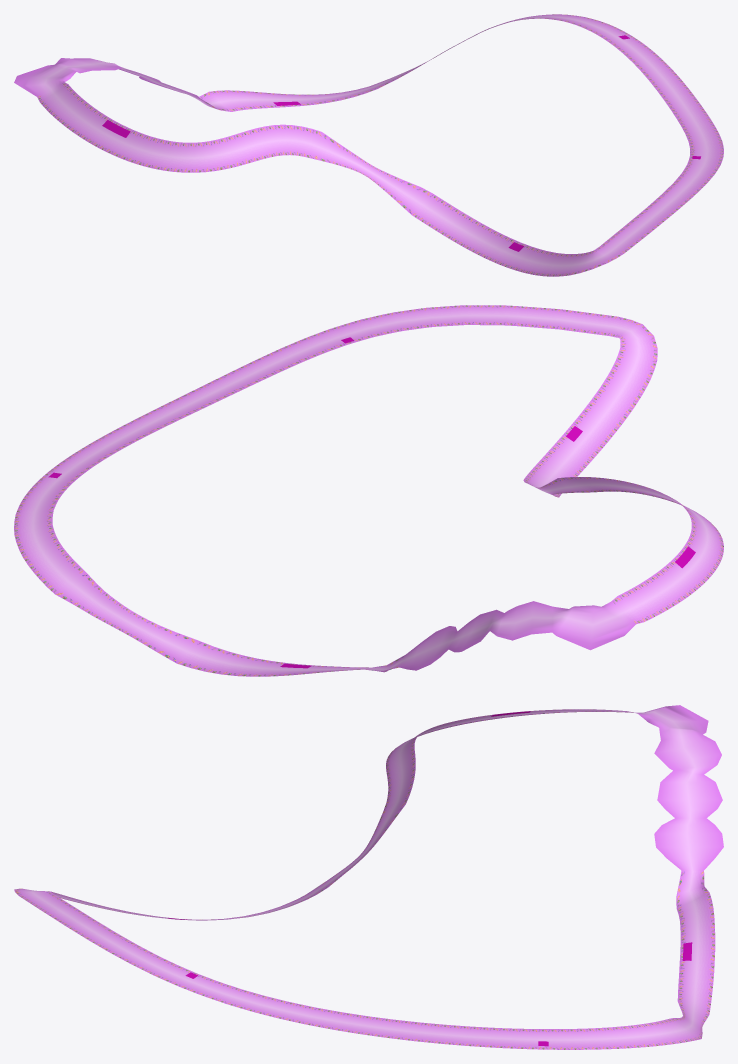
The model's file is sweetcol.obj.
The picture shows the model from 3 angles, top to bottom: view 1: azimuth 30°, elevation 25°; view 2: azimuth 150°, elevation 25°; view 3: azimuth 270°, elevation 25°; orthographic projection. The views are drawn at different scales.
Parts seen in each view (by area): view 1: Collision; view 2: Collision; view 3: Collision.
Boxes of the visible parts, x1,y1,x2,y2 form: Collision: (14,14,723,276); Collision: (14,305,723,676); Collision: (14,705,723,1049).
Size of the model in its own units: 37.95 by 7.68 by 38.37.
